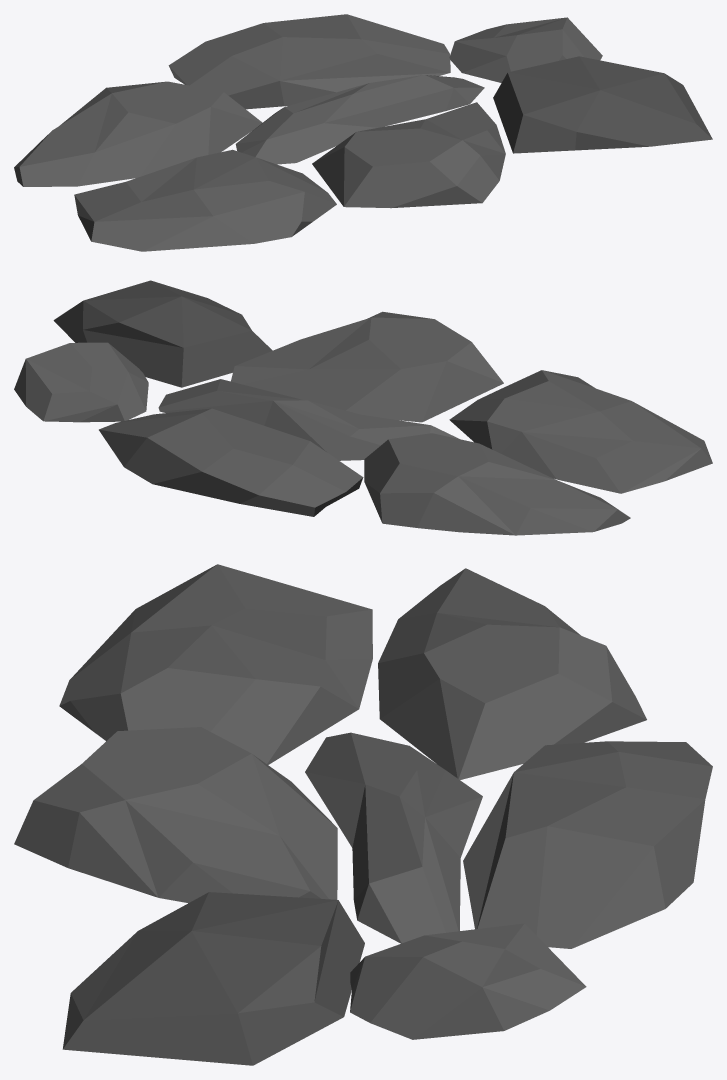
The model's file is road_stone_end.fbx.
3 renders of one model, top to bottom at view 1: azimuth 30°, elevation 25°; view 2: azimuth 150°, elevation 25°; view 3: azimuth 270°, elevation 25°, orthographic. The views are drawn at different scales.
Parts seen in each view (by area): view 1: road_stone_end; view 2: road_stone_end; view 3: road_stone_end.
Part boxes in pixels (<box>): road_stone_end: <box>14,14,712,251</box>; road_stone_end: <box>14,280,712,535</box>; road_stone_end: <box>14,564,712,1065</box>.
Bounding box in the file's own units: 141 × 9.75 × 86.9.
